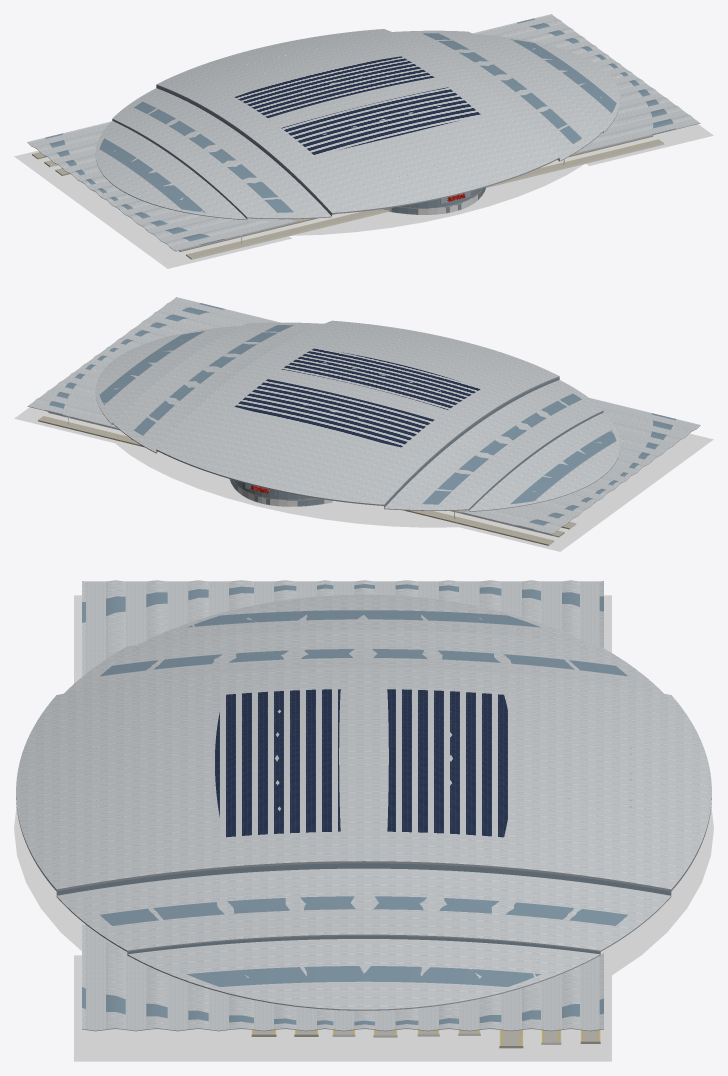
File: southstation.glb
The picture shows the model from 3 angles, top to bottom: view 1: azimuth 30°, elevation 25°; view 2: azimuth 150°, elevation 25°; view 3: azimuth 270°, elevation 25°; orthographic projection. The views are drawn at different scales.
Parts seen in each view (by area): view 1: Station, Massing, FOOTPRINT_platformsW, FOOTPRINT_ellipse, FOOTPRINT_platformsE, COL_platform12; view 2: Station, Massing, FOOTPRINT_ellipse, FOOTPRINT_platformsW, FOOTPRINT_platformsE; view 3: Station, Massing, FOOTPRINT_platformsE, FOOTPRINT_ellipse, FOOTPRINT_platformsW.
Part boxes in pixels (box(x1,y1,x2,y2)): Station: box(27, 14, 700, 258); Massing: box(28, 15, 698, 250); FOOTPRINT_platformsW: box(14, 150, 291, 268); FOOTPRINT_ellipse: box(251, 156, 584, 235); FOOTPRINT_platformsE: box(575, 124, 713, 165); COL_platform12: box(186, 143, 664, 259); Station: box(27, 297, 700, 545); Massing: box(29, 298, 699, 533); FOOTPRINT_ellipse: box(101, 426, 498, 527); FOOTPRINT_platformsW: box(436, 433, 713, 551); FOOTPRINT_platformsE: box(14, 407, 141, 448); Station: box(16, 580, 711, 1048); Massing: box(56, 581, 671, 1029); FOOTPRINT_platformsE: box(74, 955, 611, 1061); FOOTPRINT_ellipse: box(14, 806, 713, 1036); FOOTPRINT_platformsW: box(74, 595, 611, 683).
Bounding box in the file's own units: 552 × 40 × 350.
Materials: 11 (3 with a texture image).
